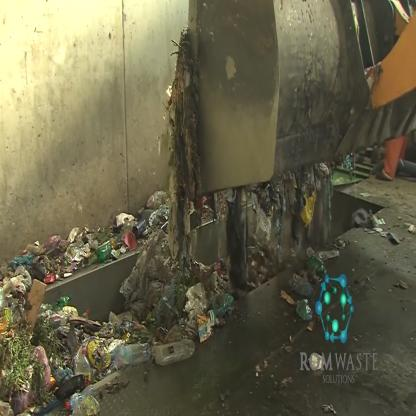Glass Bottle: (154, 337, 197, 367), (110, 341, 149, 368), (65, 385, 94, 412), (289, 274, 315, 300), (213, 295, 235, 322), (76, 347, 90, 389), (295, 298, 313, 324), (307, 254, 326, 278), (96, 243, 114, 263), (43, 272, 60, 286), (81, 307, 91, 323)
